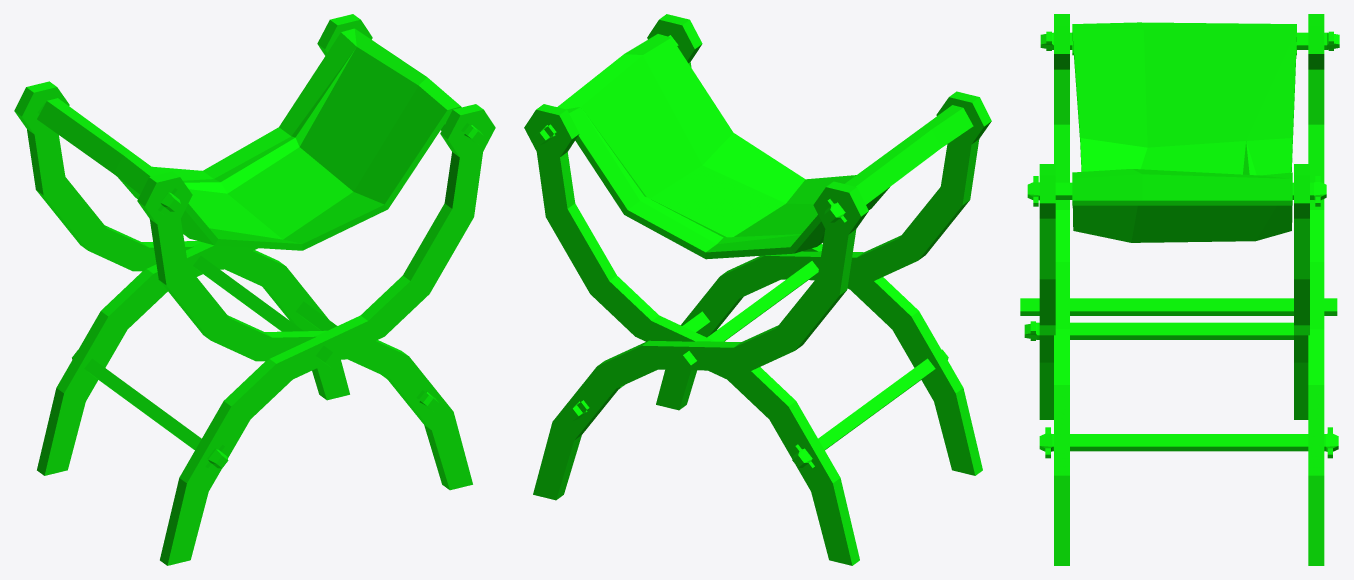
Rendered from SM_Chair_Folding_D_Fantasy.fbx.
3 views of the same model, side by side, from view 1: azimuth 30°, elevation 25°; view 2: azimuth 150°, elevation 25°; view 3: azimuth 270°, elevation 25° (orthographic). The views are drawn at different scales.
Parts seen in each view (by area): view 1: chair-folding-d-fantasy; view 2: chair-folding-d-fantasy; view 3: chair-folding-d-fantasy.
Boxes of the visible parts, bbox=[...] form: chair-folding-d-fantasy: bbox=[14, 14, 495, 565]; chair-folding-d-fantasy: bbox=[524, 14, 991, 565]; chair-folding-d-fantasy: bbox=[1020, 14, 1339, 565].
Size of the model in its own units: 0.6412 by 0.6753 by 0.4984.
